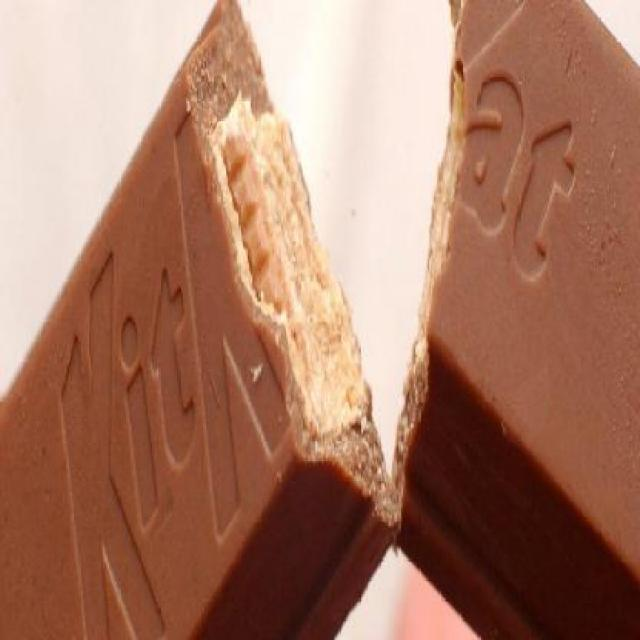Chocolate bar packaged: (1, 1, 392, 638), (389, 1, 640, 638)
